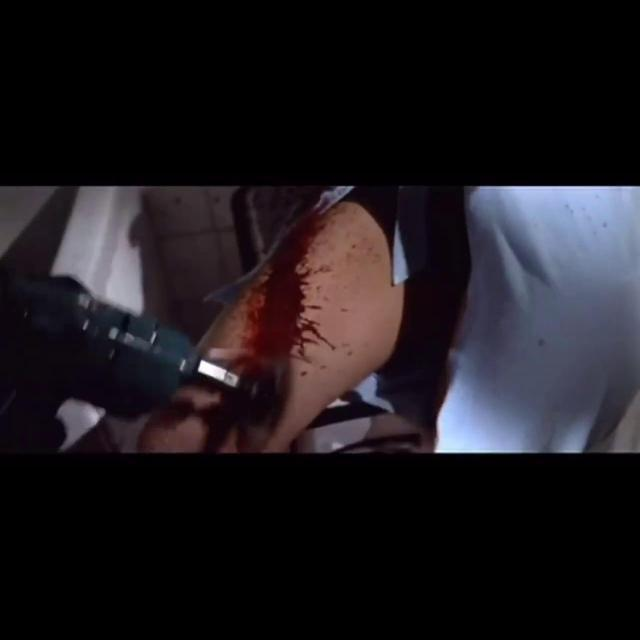blood: (186, 202, 344, 451)
